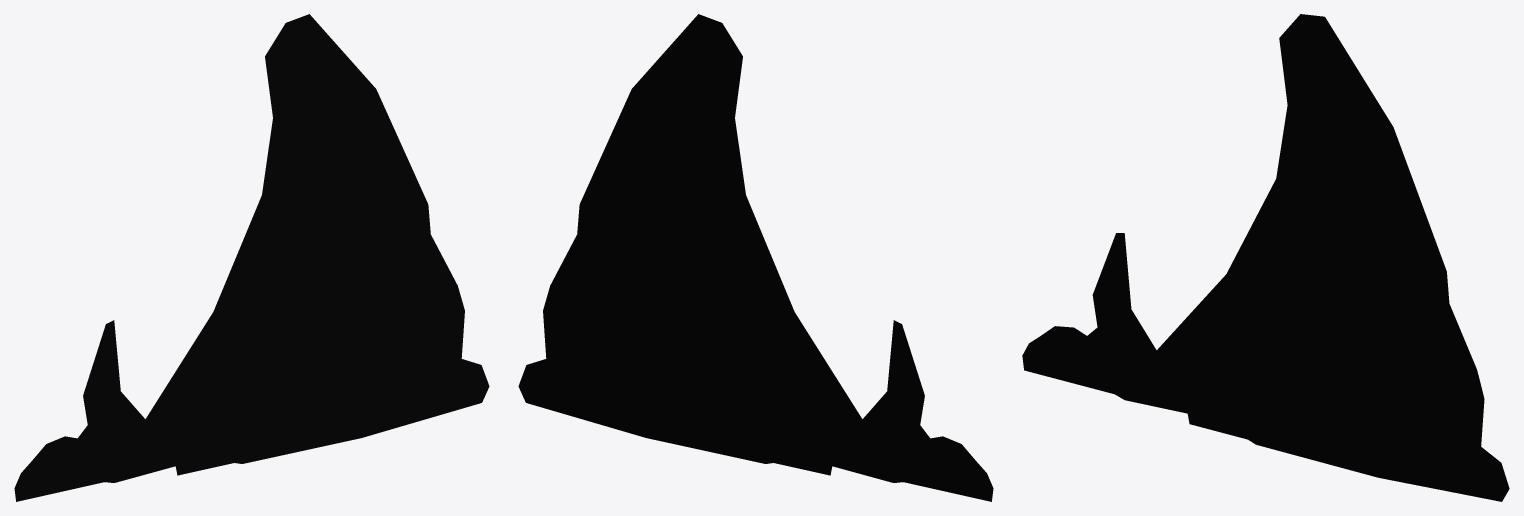
Rendered from right.fbx.
3 renders of one model, left to right at view 1: azimuth 30°, elevation 25°; view 2: azimuth 150°, elevation 25°; view 3: azimuth 330°, elevation 25°, orthographic. The views are drawn at different scales.
Parts seen in each view (by area): view 1: right; view 2: right; view 3: right.
Part boxes in pixels (x1,y1,x2,y2): right: [14, 14, 489, 501]; right: [518, 14, 993, 501]; right: [1022, 14, 1509, 501].
Bounding box in the file's own units: 10.02 × 8.8 × 0.
